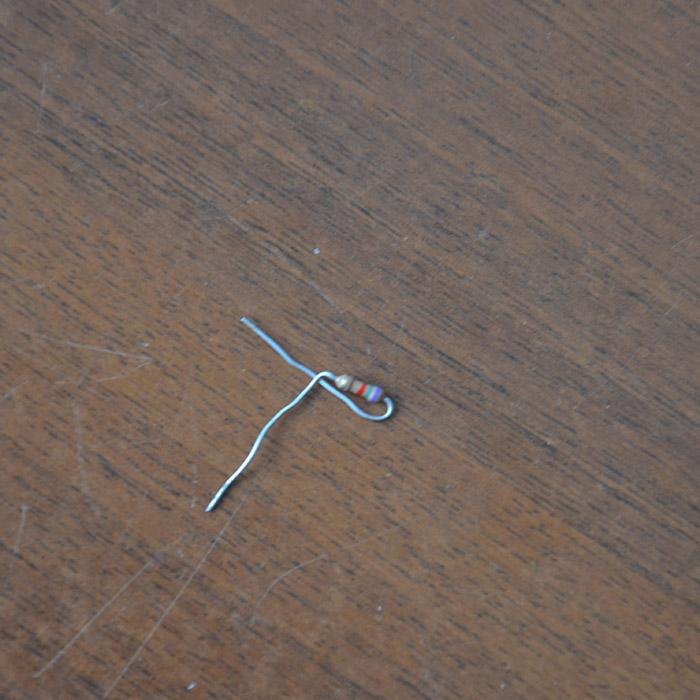resistor: (334, 373, 385, 403)
